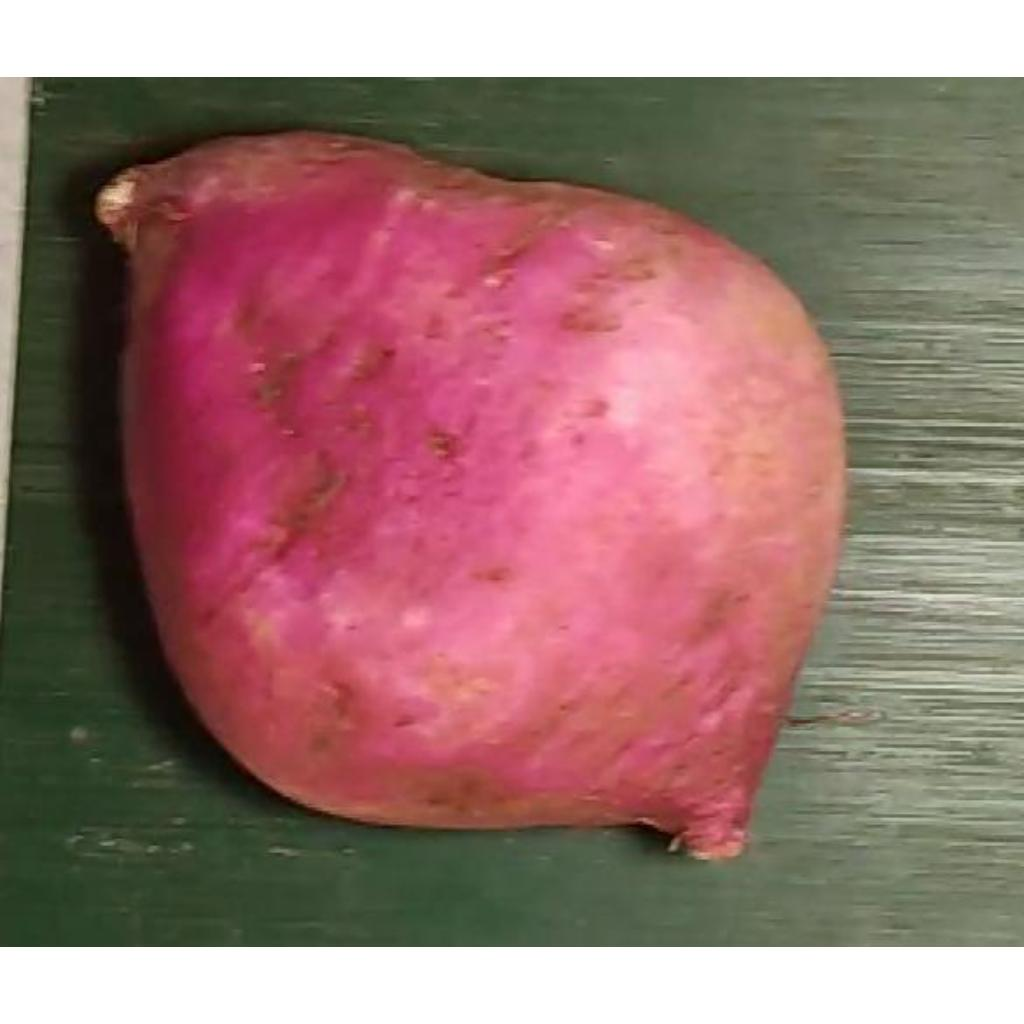Sweet Potato: (91, 129, 841, 863)
